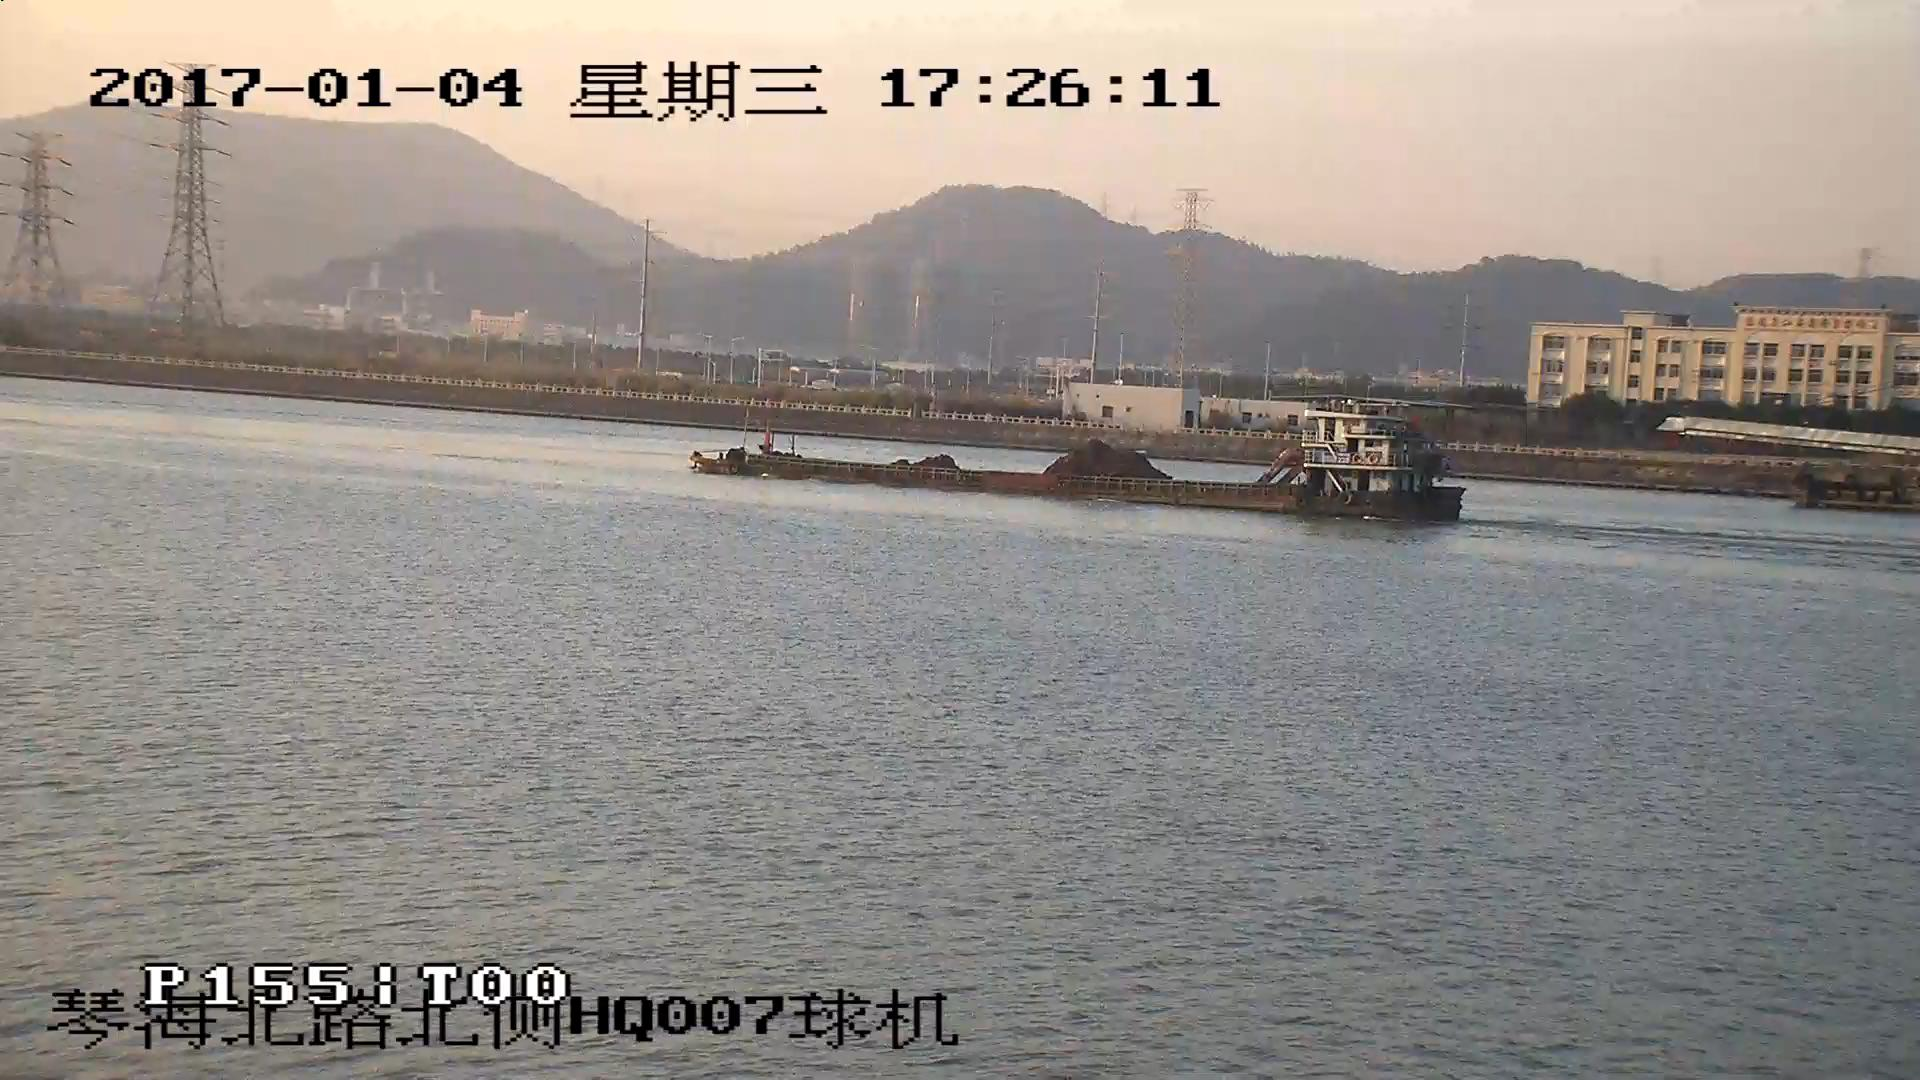ore carrier: (692, 409, 1465, 521)
